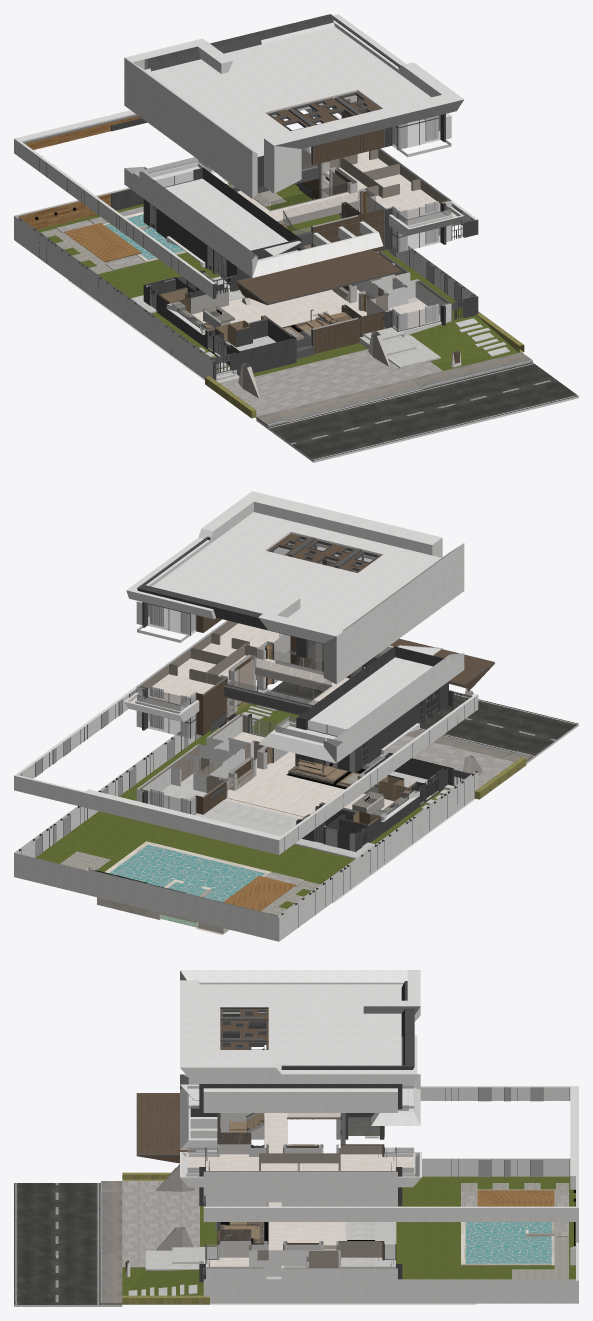
Rendered from ibiza_a14_ar.glb.
3 renders of one model, top to bottom at view 1: azimuth 30°, elevation 25°; view 2: azimuth 150°, elevation 25°; view 3: azimuth 270°, elevation 25°, orthographic. The views are drawn at different scales.
Parts seen in each view (by area): view 1: Nivel3_Cubierta_Malla_Color A08, Nivel2_Malla_Color A08, Nivel1_Malla_Color L04, Nivel1_Malla_Color A08, Nivel1_Malla_Color A07, Nivel1_Malla_Color I02, Nivel2_Malla_[Color A03]1, Nivel1_Malla_[Color A02]1, Nivel2_Malla_[Color A02]1, Nivel1_Malla_Color I03, Nivel1_Malla_Color E07, Nivel1_Malla_Color L03 (+27 smaller); view 2: Nivel3_Cubierta_Malla_Color A08, Nivel2_Malla_Color A08, Nivel1_Malla_Color A08, Nivel1_Malla_Color A07, Nivel1_Malla_Color L04, Nivel1_Malla_Agua azul oscura, Nivel1_Malla_[Color A02]1, Nivel2_Malla_[Color A02]1, Nivel1_Malla_Color L03, Nivel1_Malla_Color E07, Nivel2_Malla_Color L03, Nivel2_Malla_[Translucent Glass Gray]1 (+27 smaller); view 3: Nivel3_Cubierta_Malla_Color A08, Nivel2_Malla_Color A08, Nivel1_Malla_Color A08, Nivel1_Malla_Color L04, Nivel1_Malla_Color A07, Nivel1_Malla_Color I02, Nivel2_Malla_Color L03, Nivel1_Malla_Color E07, Nivel1_Malla_Agua azul oscura, Nivel3_Cubierta_Malla_[Color A02]1, Nivel2_Malla_[Color A03]1, Nivel1_Malla_Color I03 (+22 smaller).
Part boxes in pixels (box(x1,y1,x2,y2)): Nivel3_Cubierta_Malla_Color A08: box(124, 14, 463, 198); Nivel2_Malla_Color A08: box(14, 108, 477, 298); Nivel1_Malla_Color L04: box(268, 362, 578, 460); Nivel1_Malla_Color A08: box(14, 174, 477, 379); Nivel1_Malla_Color A07: box(37, 182, 518, 376); Nivel1_Malla_Color I02: box(221, 349, 442, 416); Nivel2_Malla_[Color A03]1: box(236, 148, 401, 304); Nivel1_Malla_[Color A02]1: box(19, 189, 478, 380); Nivel2_Malla_[Color A02]1: box(39, 109, 478, 298); Nivel1_Malla_Color I03: box(256, 352, 532, 426); Nivel1_Malla_Color E07: box(131, 276, 510, 383); Nivel1_Malla_Color L03: box(192, 289, 440, 330); Nivel3_Cubierta_Malla_Color A08: box(126, 491, 464, 684); Nivel2_Malla_Color A08: box(14, 620, 478, 854); Nivel1_Malla_Color A08: box(14, 713, 478, 941); Nivel1_Malla_Color A07: box(35, 704, 449, 915); Nivel1_Malla_Color L04: box(271, 681, 578, 756); Nivel1_Malla_Agua azul oscura: box(109, 845, 264, 901); Nivel1_Malla_[Color A02]1: box(19, 714, 477, 927); Nivel2_Malla_[Color A02]1: box(21, 646, 474, 850); Nivel1_Malla_Color L03: box(225, 732, 394, 818); Nivel1_Malla_Color E07: box(148, 705, 455, 859); Nivel2_Malla_Color L03: box(131, 623, 349, 710); Nivel2_Malla_[Translucent Glass Gray]1: box(137, 653, 434, 743); Nivel3_Cubierta_Malla_Color A08: box(180, 970, 420, 1112); Nivel2_Malla_Color A08: box(180, 1074, 578, 1221); Nivel1_Malla_Color A08: box(125, 1158, 578, 1303); Nivel1_Malla_Color L04: box(14, 1183, 100, 1304); Nivel1_Malla_Color A07: box(122, 1176, 575, 1295); Nivel1_Malla_Color I02: box(122, 1181, 199, 1267); Nivel2_Malla_Color L03: box(188, 1113, 413, 1172); Nivel1_Malla_Color E07: box(128, 1222, 396, 1295); Nivel1_Malla_Agua azul oscura: box(465, 1222, 551, 1263); Nivel3_Cubierta_Malla_[Color A02]1: box(199, 981, 414, 1109); Nivel2_Malla_[Color A03]1: box(137, 1093, 384, 1163); Nivel1_Malla_Color I03: box(100, 1181, 122, 1304).
Bounding box in the file's own units: 0.6164 × 0.5567 × 1.18.
127 materials, 52 textured.
